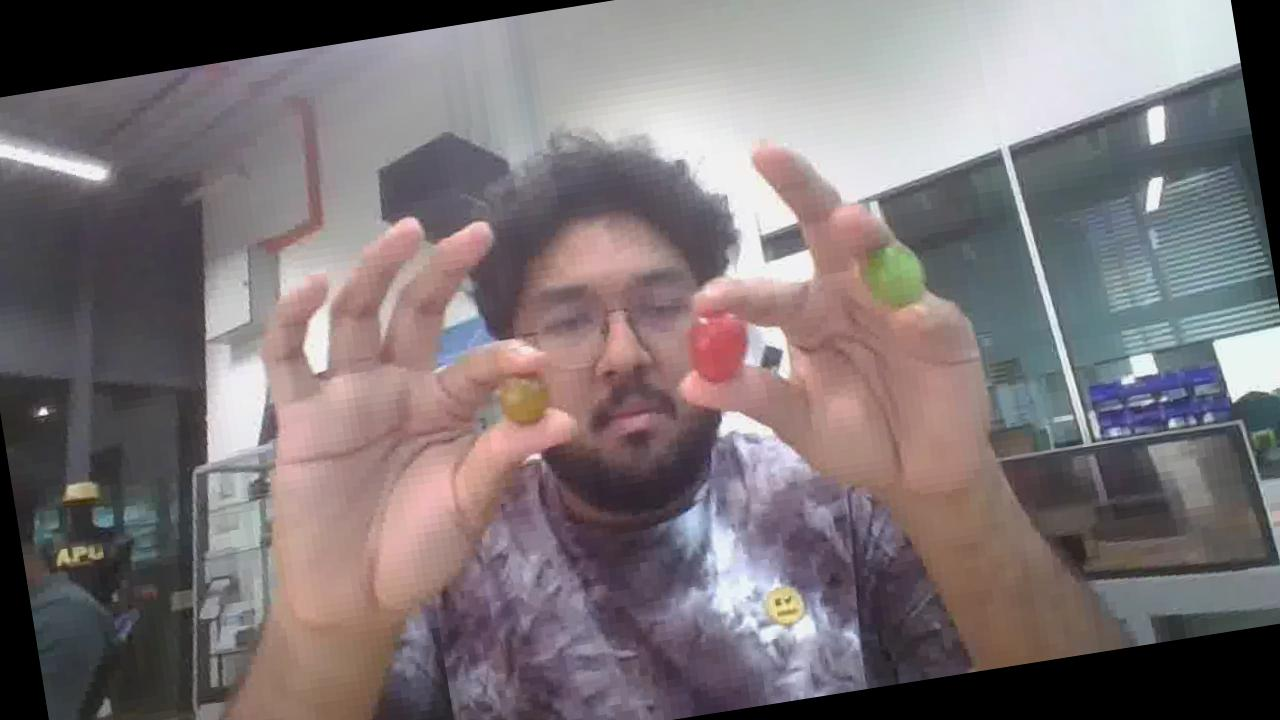green_cherry_tomato: (862, 244, 925, 307)
red_cherry_tomato: (689, 312, 747, 382)
yellow_cherry_tomato: (497, 377, 546, 423)
